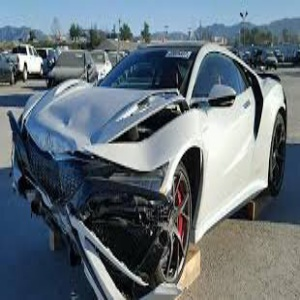bonnet: (46, 82, 170, 140)
